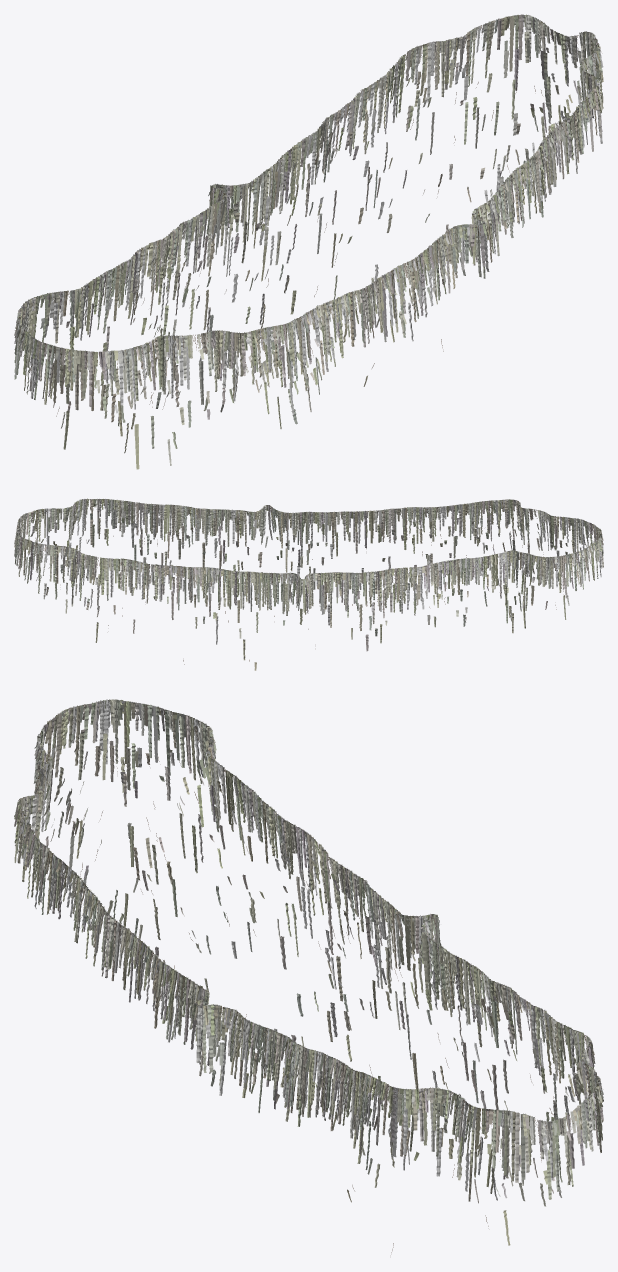
File: SM_H15_Vines.fbx
The picture shows the model from 3 angles, top to bottom: view 1: azimuth 30°, elevation 25°; view 2: azimuth 150°, elevation 25°; view 3: azimuth 270°, elevation 25°; orthographic projection. The views are drawn at different scales.
Visible parts, largest first — view 1: SM_H15_Vines; view 2: SM_H15_Vines; view 3: SM_H15_Vines.
Boxes of the visible parts, x1,y1,x2,y2 form: SM_H15_Vines: [14, 14, 603, 469]; SM_H15_Vines: [14, 498, 603, 670]; SM_H15_Vines: [14, 699, 603, 1252].
Size of the model in its own units: 383 by 117 by 234.
